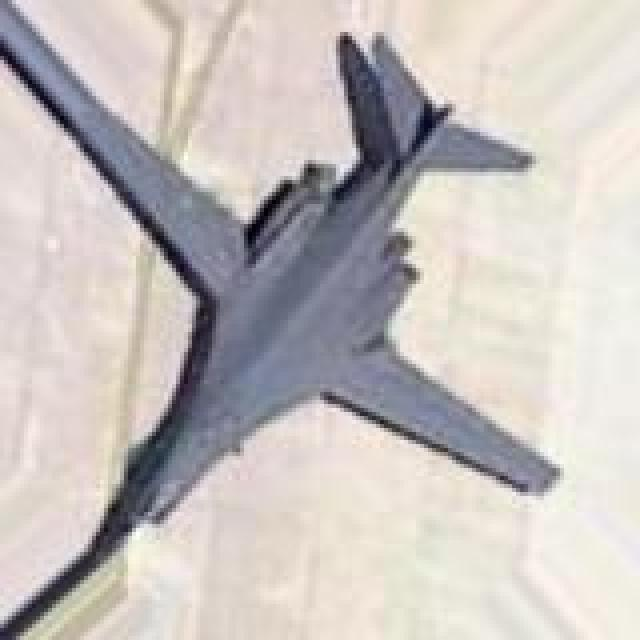B-1_TopDown: (0, 0, 564, 636)
